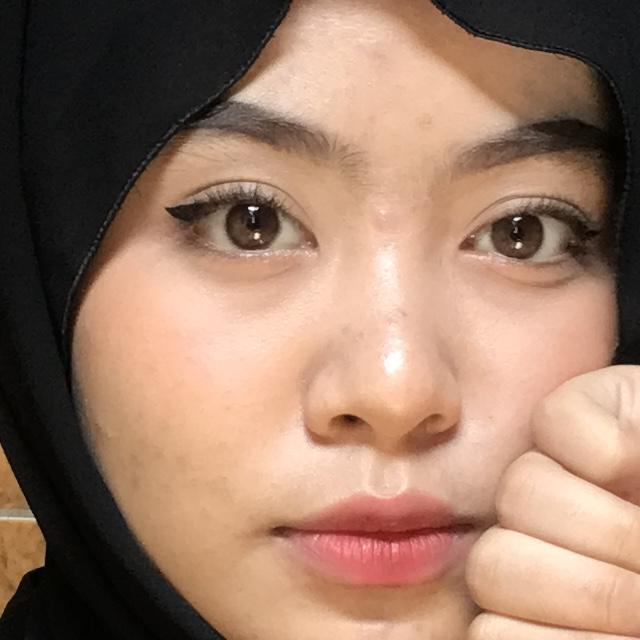sedih: (280, 266, 640, 640)
